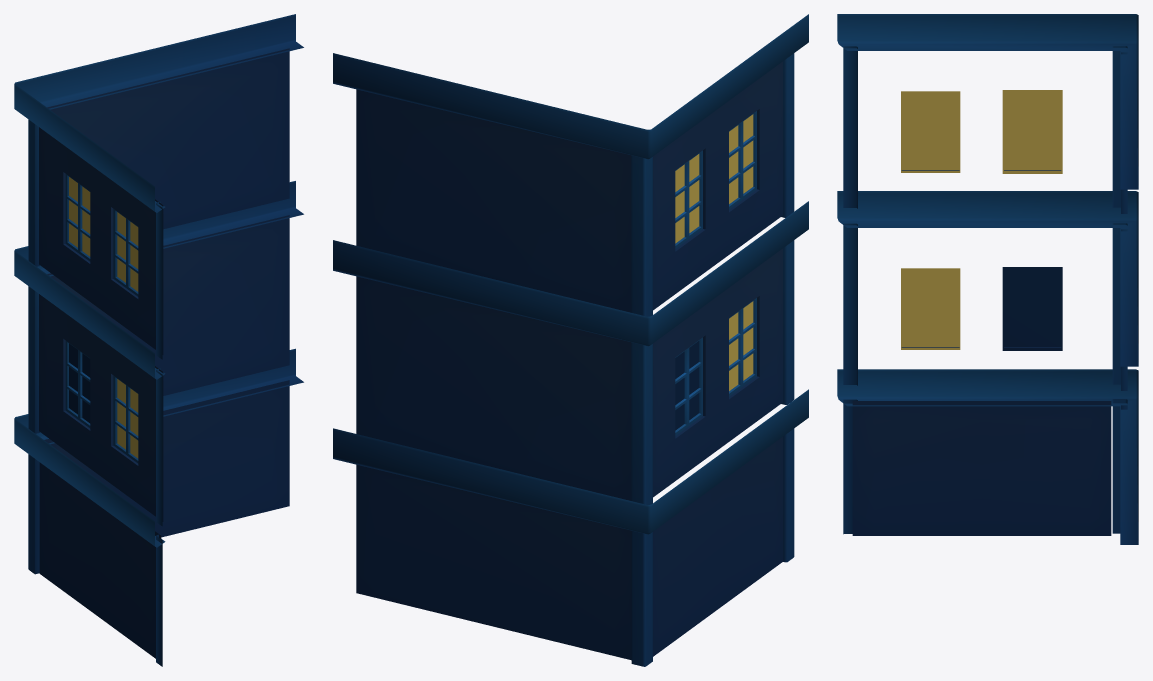
Rendered from BackgroundBuilding01Night.fbx.
3 renders of one model, left to right at view 1: azimuth 30°, elevation 25°; view 2: azimuth 150°, elevation 25°; view 3: azimuth 270°, elevation 25°, orthographic. The views are drawn at different scales.
Parts seen in each view (by area): view 1: BackgroundBuilding01Night; view 2: BackgroundBuilding01Night; view 3: BackgroundBuilding01Night.
Part boxes in pixels (x1,y1,x2,y2): BackgroundBuilding01Night: (14,14,303,666); BackgroundBuilding01Night: (333,14,808,666); BackgroundBuilding01Night: (837,14,1138,544).
Bounding box in the file's own units: 1060 × 1738 × 921.
